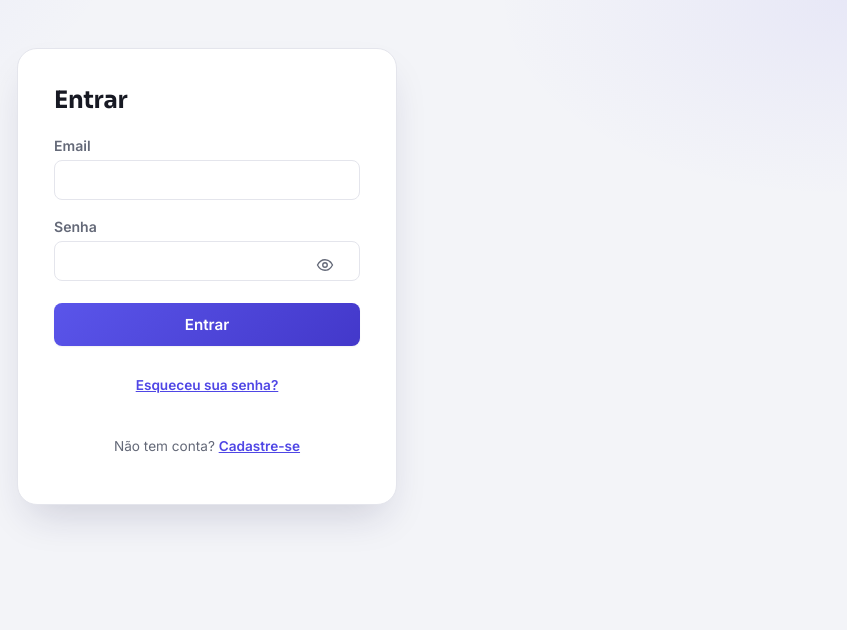
LoginPage › erro da API aparece na tela e não navega
In the field labelled "Email": (207, 180) top-left (54, 160), bottom-right (360, 200), type "ana@teste.com"
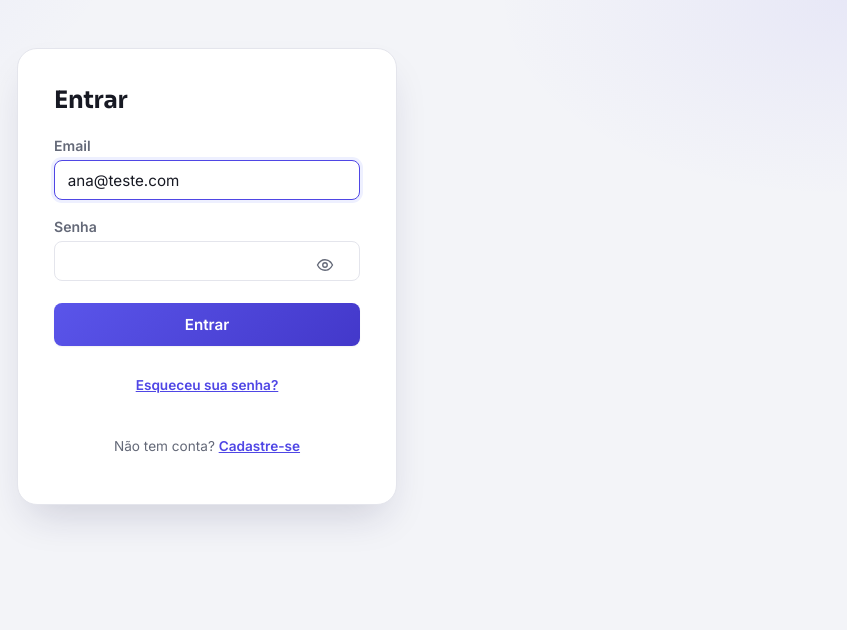
In the password field labelled "Senha": (207, 261) top-left (54, 241), bottom-right (360, 281), type "segredo123"
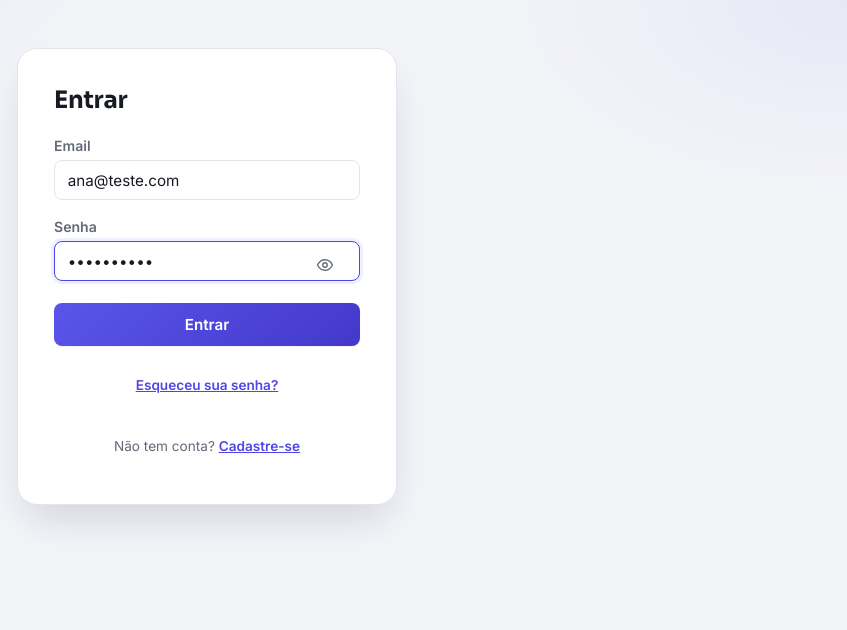
Click the button "Entrar": (207, 324) top-left (54, 303), bottom-right (360, 346)
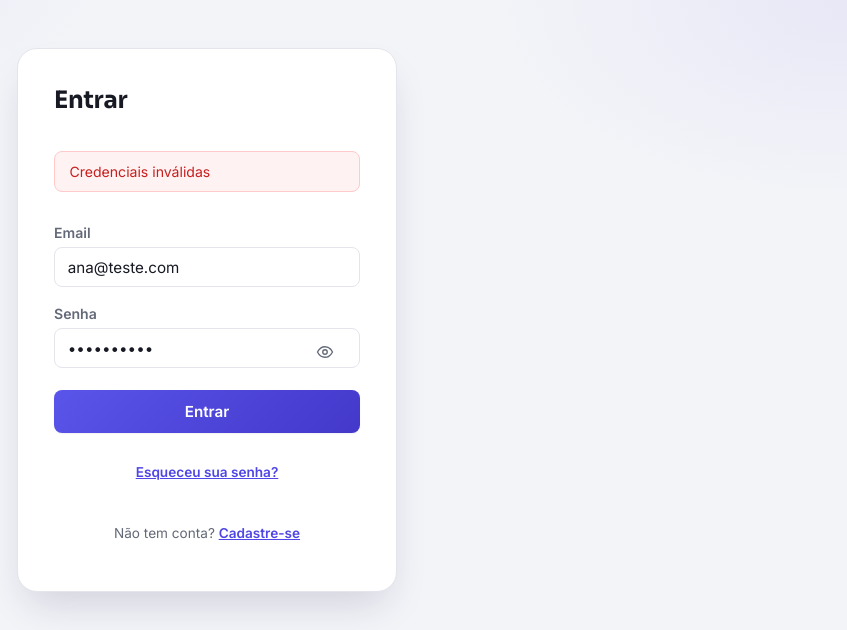
Now the text "Credenciais inválidas" is shown, box top-left (54, 151), bottom-right (360, 192)
